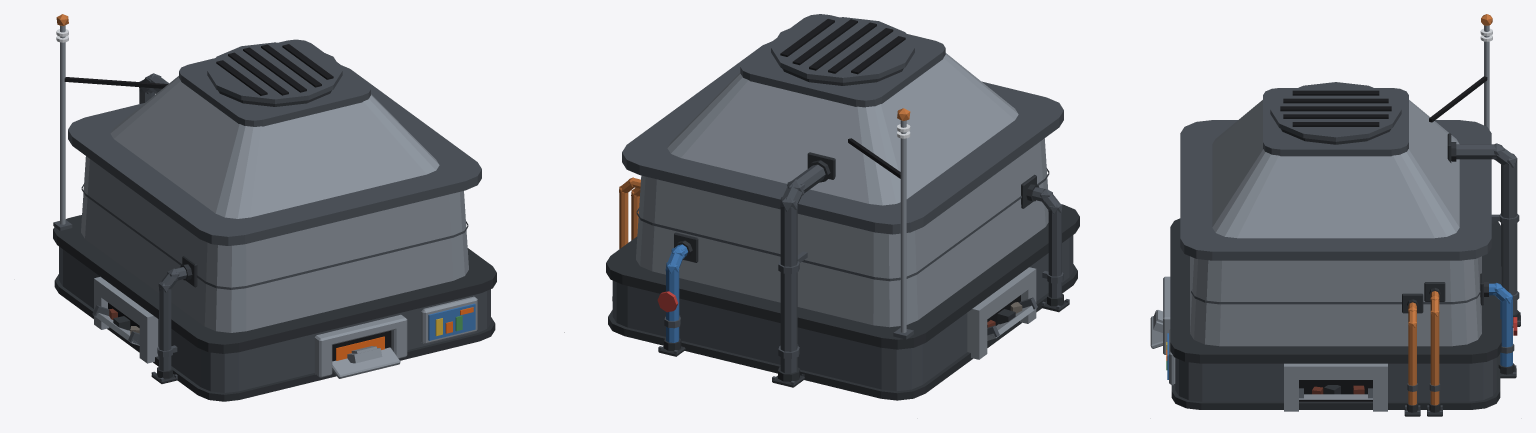
The model's file is fourneau_electrique_t2.glb.
3 views of the same model, side by side, from view 1: azimuth 30°, elevation 25°; view 2: azimuth 150°, elevation 25°; view 3: azimuth 270°, elevation 25° (orthographic). The views are drawn at different scales.
Parts seen in each view (by area): view 1: corps.005, pyramide.002, palier.002, socle_bandeau.002, socle.004, pieces_acier.004, grille_bord.002, pyramide_rebord.002, pieces_noir.007, socle_plinthe.002, pieces_acier_sombre.007, corps_joint.002 (+5 smaller); view 2: corps.005, pyramide.002, palier.002, socle.004, socle_bandeau.002, pieces_acier_sombre.007, grille_bord.002, pyramide_rebord.002, pieces_acier.004, socle_plinthe.002, pieces_noir.007, pieces_fonte.007 (+3 smaller); view 3: pyramide.002, corps.005, palier.002, socle_bandeau.002, socle.004, pieces_acier.004, grille_bord.002, pieces_noir.007, pyramide_rebord.002, pieces_acier_sombre.007, socle_plinthe.002, pieces_cuivre.004 (+4 smaller).
Part boxes in pixels (x1,y1,x2,y2): corps.005: [81, 156, 468, 332]; pyramide.002: [110, 76, 439, 218]; palier.002: [68, 65, 481, 245]; socle_bandeau.002: [53, 215, 496, 353]; socle.004: [59, 246, 490, 392]; pieces_acier.004: [60, 25, 407, 377]; grille_bord.002: [207, 42, 342, 103]; pyramide_rebord.002: [179, 39, 370, 126]; pieces_noir.007: [64, 44, 333, 330]; socle_plinthe.002: [54, 274, 495, 401]; pieces_acier_sombre.007: [53, 73, 186, 381]; corps_joint.002: [81, 184, 468, 289]; corps.005: [636, 138, 1048, 327]; pyramide.002: [667, 53, 1018, 205]; palier.002: [622, 41, 1063, 234]; socle.004: [612, 235, 1073, 391]; socle_bandeau.002: [606, 204, 1079, 349]; pieces_acier_sombre.007: [612, 164, 1069, 384]; grille_bord.002: [771, 17, 914, 82]; pyramide_rebord.002: [740, 14, 945, 107]; pieces_acier.004: [900, 120, 1036, 359]; socle_plinthe.002: [608, 264, 1077, 400]; pieces_noir.007: [780, 19, 1020, 325]; pieces_fonte.007: [612, 152, 1069, 387]; pyramide.002: [1212, 100, 1459, 238]; corps.005: [1190, 256, 1481, 346]; palier.002: [1180, 120, 1491, 260]; socle_bandeau.002: [1170, 218, 1501, 363]; socle.004: [1175, 358, 1496, 401]; pieces_acier.004: [1163, 25, 1489, 411]; grille_bord.002: [1270, 82, 1401, 141]; pieces_noir.007: [1280, 76, 1487, 401]; pyramide_rebord.002: [1263, 88, 1408, 156]; pieces_acier_sombre.007: [1299, 143, 1520, 414]; socle_plinthe.002: [1171, 353, 1500, 409]; pieces_cuivre.004: [1408, 14, 1492, 405].
Bounding box in the file's own units: 1.5 × 1.17 × 1.5.
